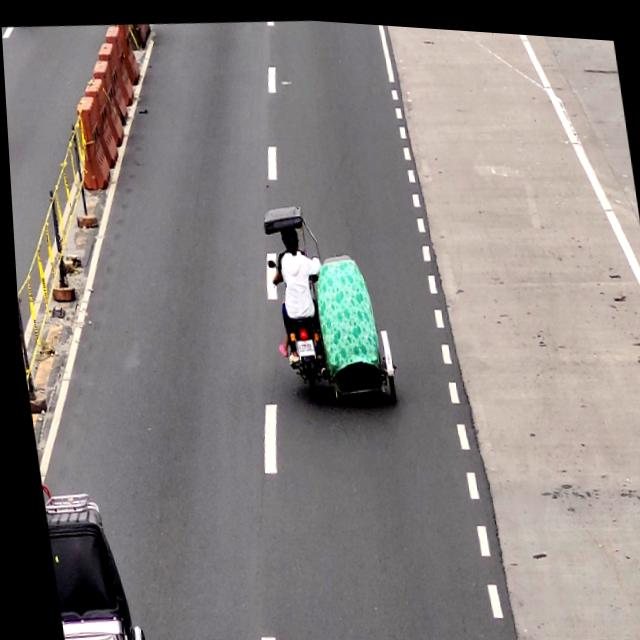License-Plate: (292, 334, 311, 351)
Tricycle: (248, 189, 398, 411), (35, 481, 139, 640)
